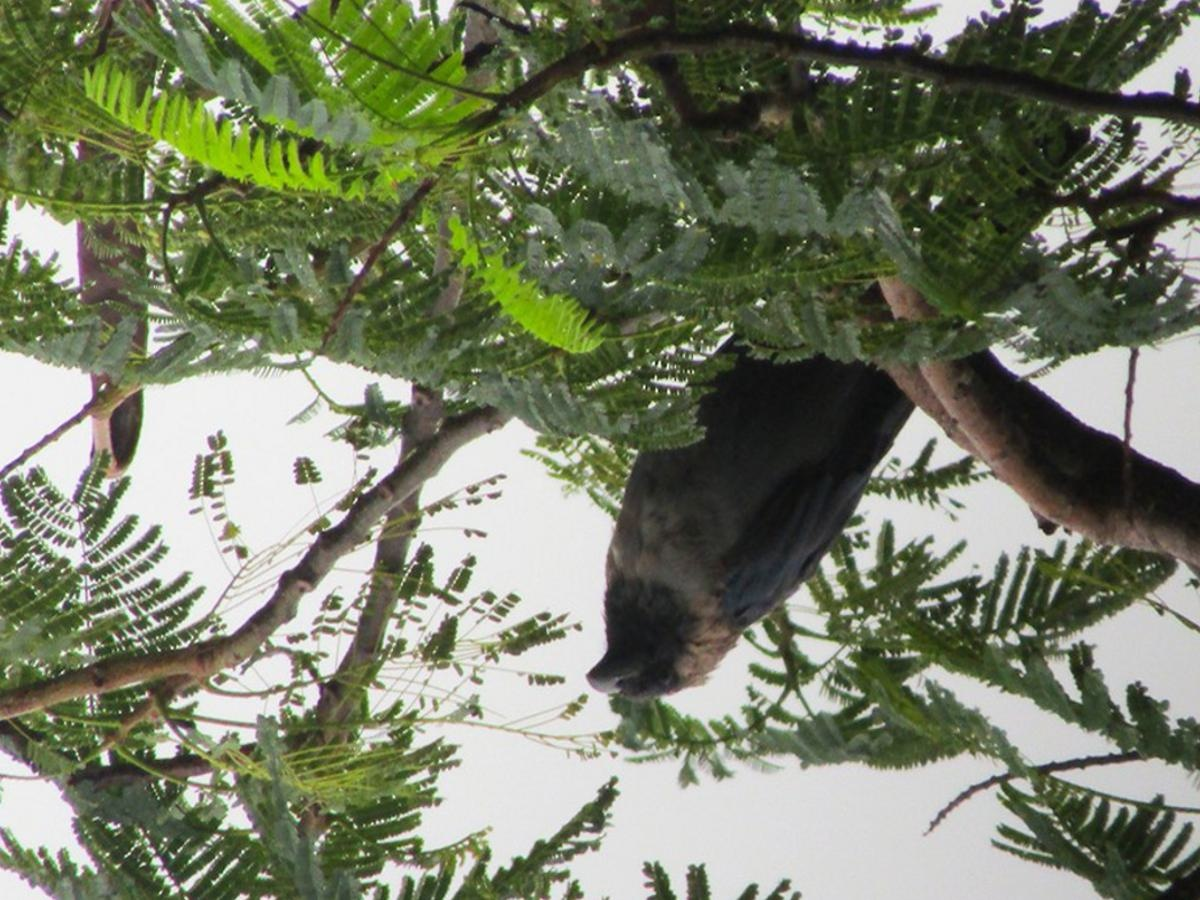crow: (563, 251, 957, 728)
